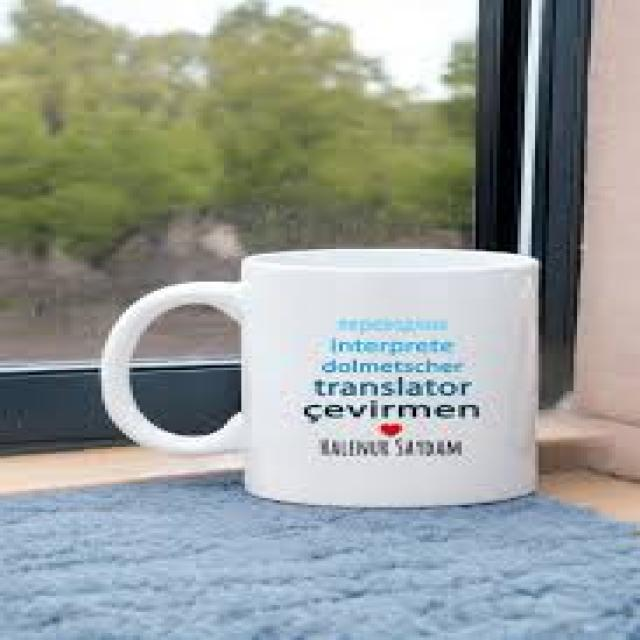taza: (100, 247, 544, 508)
